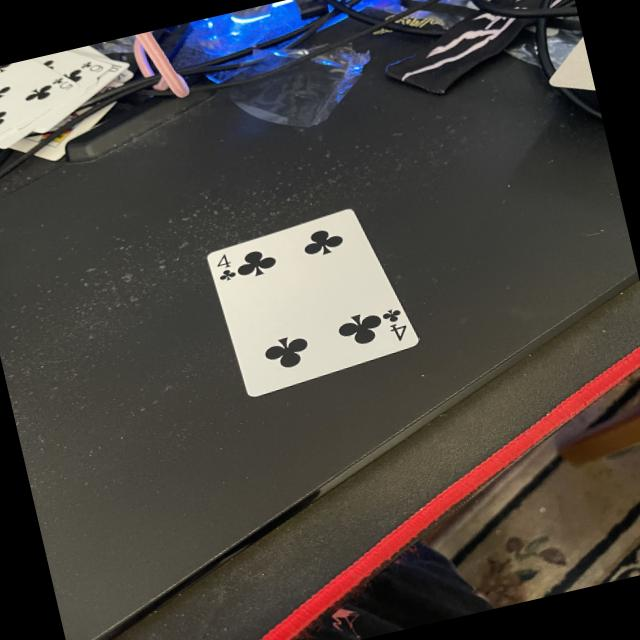Jack of clubs: (207, 210, 418, 397)
